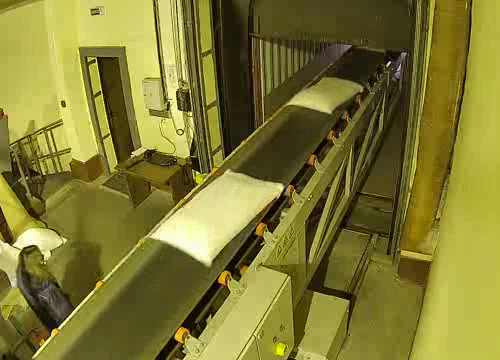bag: (141, 164, 298, 270), (279, 70, 371, 115), (354, 46, 387, 55)
